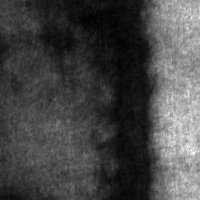patches: (43, 1, 110, 198)
